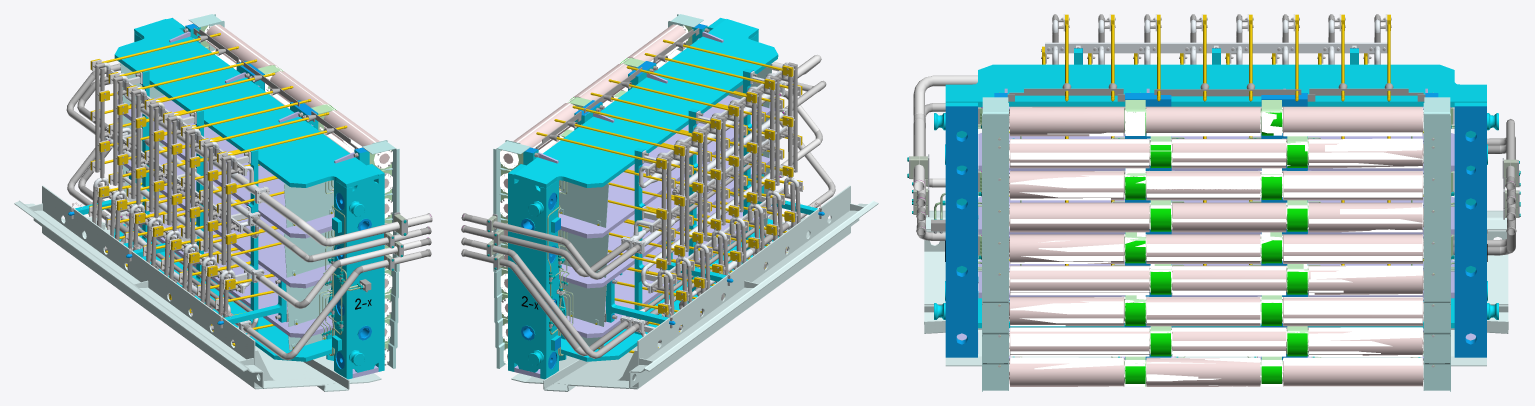
The model's file is SEGMENT_2_LOOSE_SIDE_FRAME.glb.
The picture shows the model from 3 angles, left to right: view 1: azimuth 30°, elevation 25°; view 2: azimuth 150°, elevation 25°; view 3: azimuth 270°, elevation 25°; orthographic projection. The views are drawn at different scales.
Parts seen in each view (by area): view 1: Model, ROLLSET_1, ROLLER_1_2, ROLLER_1_3, ROLLER_1_1, ROLLSET_2; view 2: Model, ROLLSET_1, ROLLER_1_2, ROLLER_1_3, ROLLER_1_1, ROLLSET_2; view 3: Model, ROLLSET_8, ROLLSET_3, ROLLSET_7, ROLLSET_2, ROLLSET_6, ROLLSET_5, ROLLSET_9, ROLLER_1_1, ROLLSET_4, ROLLER_1_3, ROLLSET_1 (+20 smaller).
Boxes of the visible parts, box(x1,y1,x2,y2) form: Model: box(14, 14, 432, 391); ROLLSET_1: box(204, 24, 392, 168); ROLLER_1_2: box(270, 71, 331, 106); ROLLER_1_3: box(206, 24, 278, 67); ROLLER_1_1: box(327, 110, 386, 156); ROLLSET_2: box(211, 50, 392, 193); Model: box(461, 14, 878, 391); ROLLSET_1: box(500, 24, 688, 168); ROLLER_1_2: box(571, 63, 628, 102); ROLLER_1_3: box(506, 103, 574, 154); ROLLER_1_1: box(625, 24, 685, 61); ROLLSET_2: box(500, 48, 686, 193); Model: box(907, 14, 1520, 391); ROLLSET_8: box(1009, 326, 1423, 356); ROLLSET_3: box(1009, 168, 1423, 200); ROLLSET_7: box(1009, 295, 1423, 326); ROLLSET_2: box(1009, 136, 1423, 168); ROLLSET_6: box(1009, 264, 1423, 295); ROLLSET_5: box(1009, 232, 1423, 263); ROLLSET_9: box(1009, 357, 1423, 386); ROLLER_1_1: box(1009, 106, 1123, 135); ROLLSET_4: box(1009, 200, 1423, 232); ROLLER_1_3: box(1283, 106, 1423, 135); ROLLSET_1: box(1009, 107, 1423, 136).
Size of the model in its own units: 1.85 by 2.16 by 4.16.
